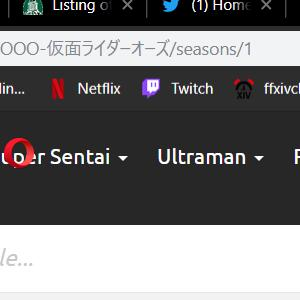opera: (3, 137, 34, 168)
